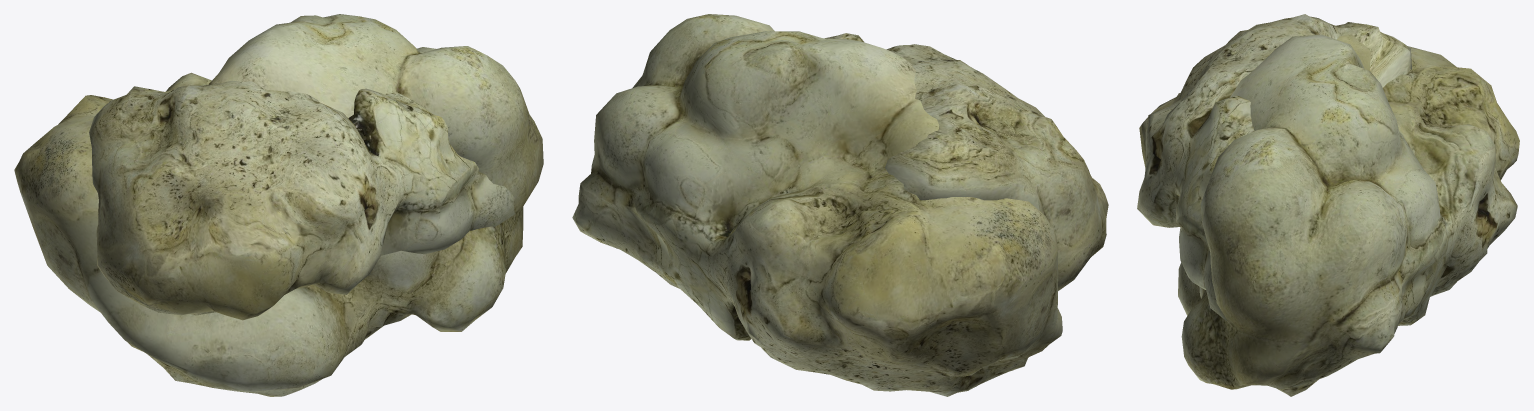
The model's file is Tufa2.fbx.
The picture shows the model from 3 angles, left to right: view 1: azimuth 30°, elevation 25°; view 2: azimuth 150°, elevation 25°; view 3: azimuth 270°, elevation 25°; orthographic projection. The views are drawn at different scales.
Parts seen in each view (by area): view 1: TuffaBulbous; view 2: TuffaBulbous; view 3: TuffaBulbous.
Boxes of the visible parts, x1,y1,x2,y2 form: TuffaBulbous: [14, 14, 543, 396]; TuffaBulbous: [572, 14, 1108, 396]; TuffaBulbous: [1137, 14, 1519, 396].
Size of the model in its own units: 44.39 by 29.55 by 33.24.
